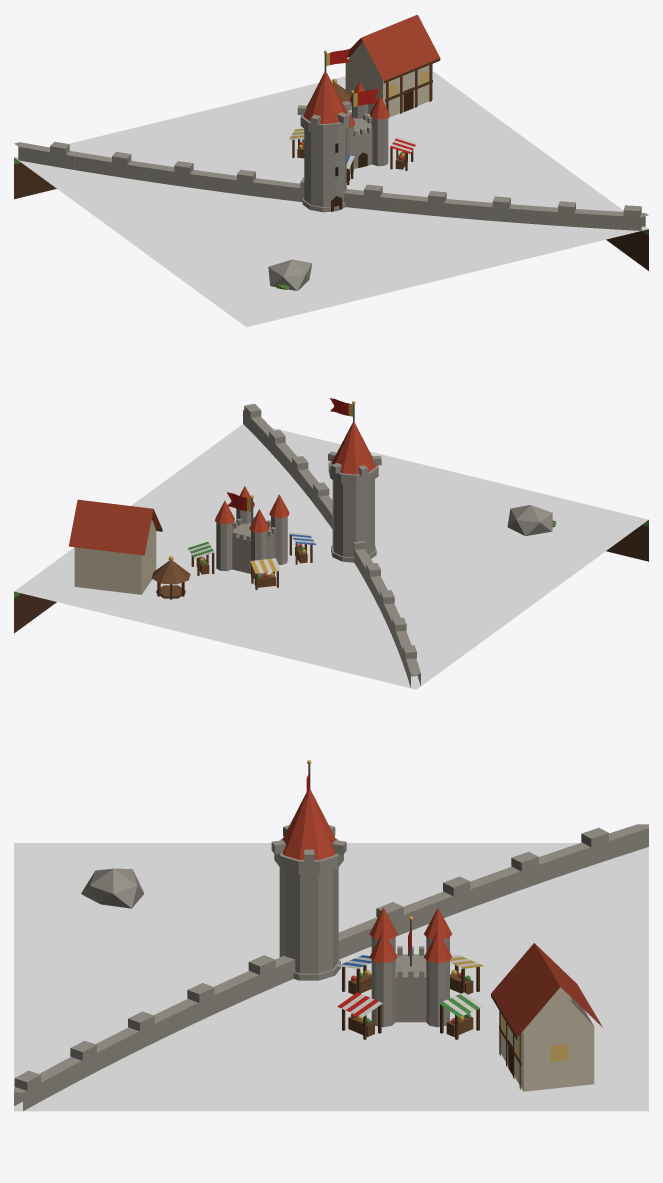
3 views of the same model, one above another, from view 1: azimuth 30°, elevation 25°; view 2: azimuth 150°, elevation 25°; view 3: azimuth 270°, elevation 25° (orthographic). The views are drawn at different scales.
Parts seen in each view (by area): view 1: c2r; view 2: c2r; view 3: c2r.
Part boxes in pixels (left/top/right/bottom): c2r: left=14, top=14, right=648, bottom=327; c2r: left=14, top=398, right=648, bottom=689; c2r: left=14, top=760, right=648, bottom=1111.
Size of the model in its own units: 2 by 0.9222 by 2.
